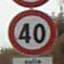limite 40: (7, 7, 57, 56)
